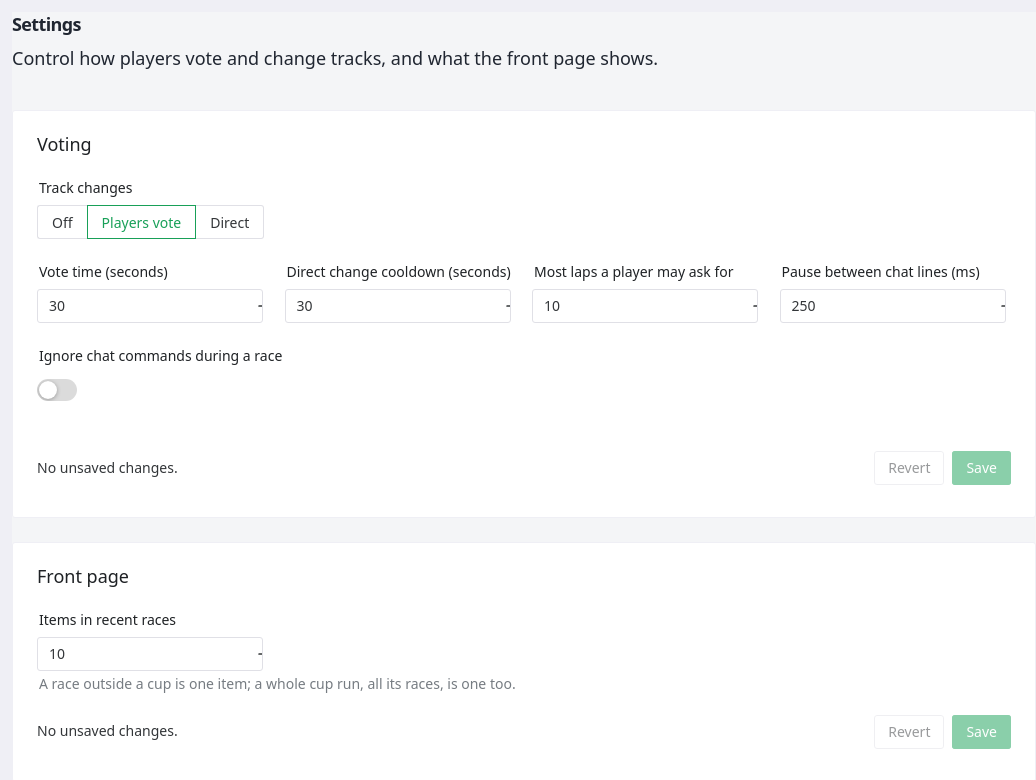
Scenario: SettingsView › reloads and says so when the settings were changed elsewhere
Replace the text in the field named "Most laps a player may ask for" with "12": (645, 306) top-left (544, 289), bottom-right (746, 323)
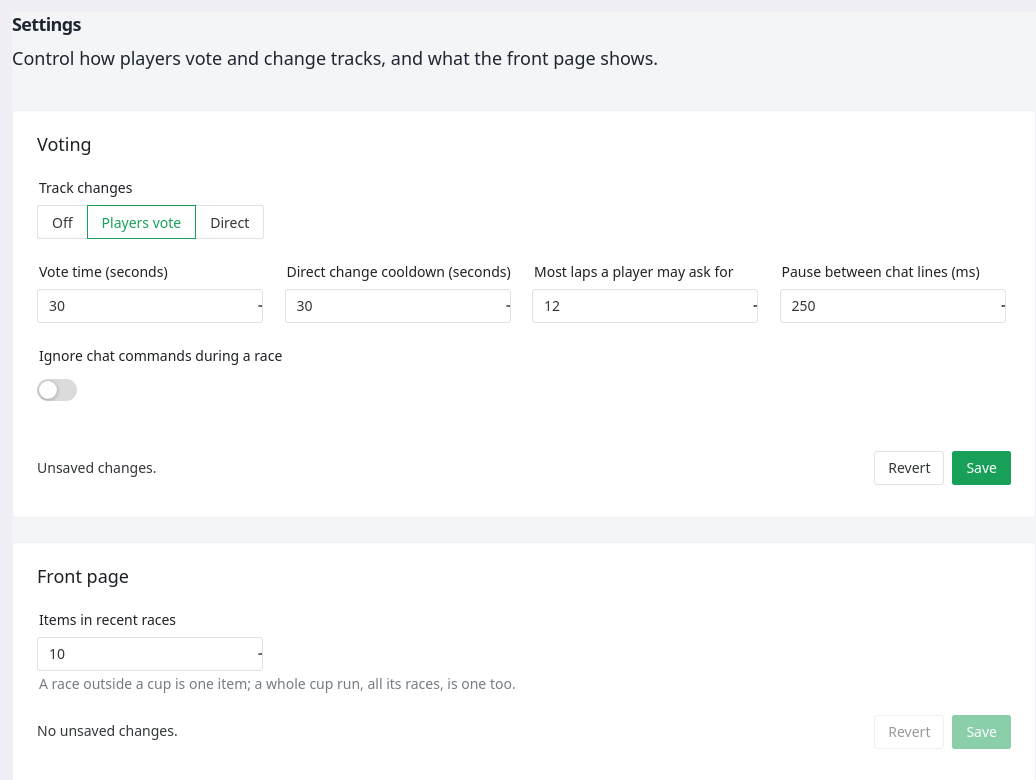
Click the button "Save" below "Most laps a player may ask for": (982, 468) top-left (952, 451), bottom-right (1011, 485)
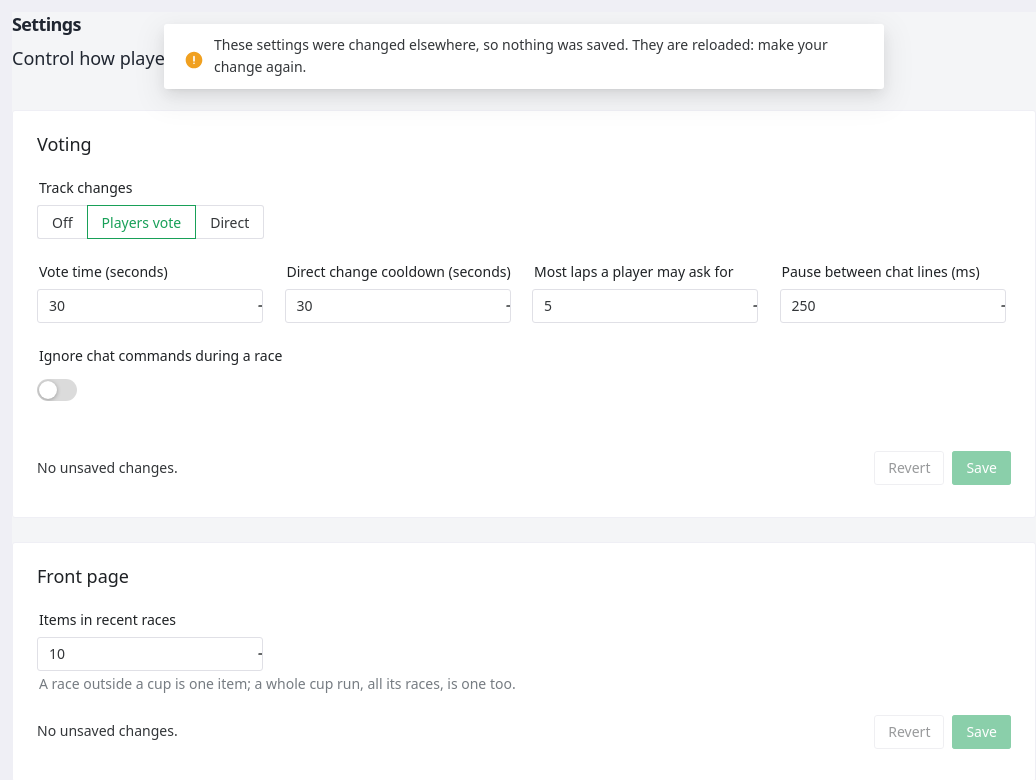
Expected: the text "changed elsewhere" is shown, top-left (214, 35), bottom-right (828, 76)
Expected: the field named "Most laps a player may ask for" holds "5", top-left (544, 289), bottom-right (746, 323)
Expected: the button "Save" below "Most laps a player may ask for" is disabled, top-left (952, 451), bottom-right (1011, 485)
